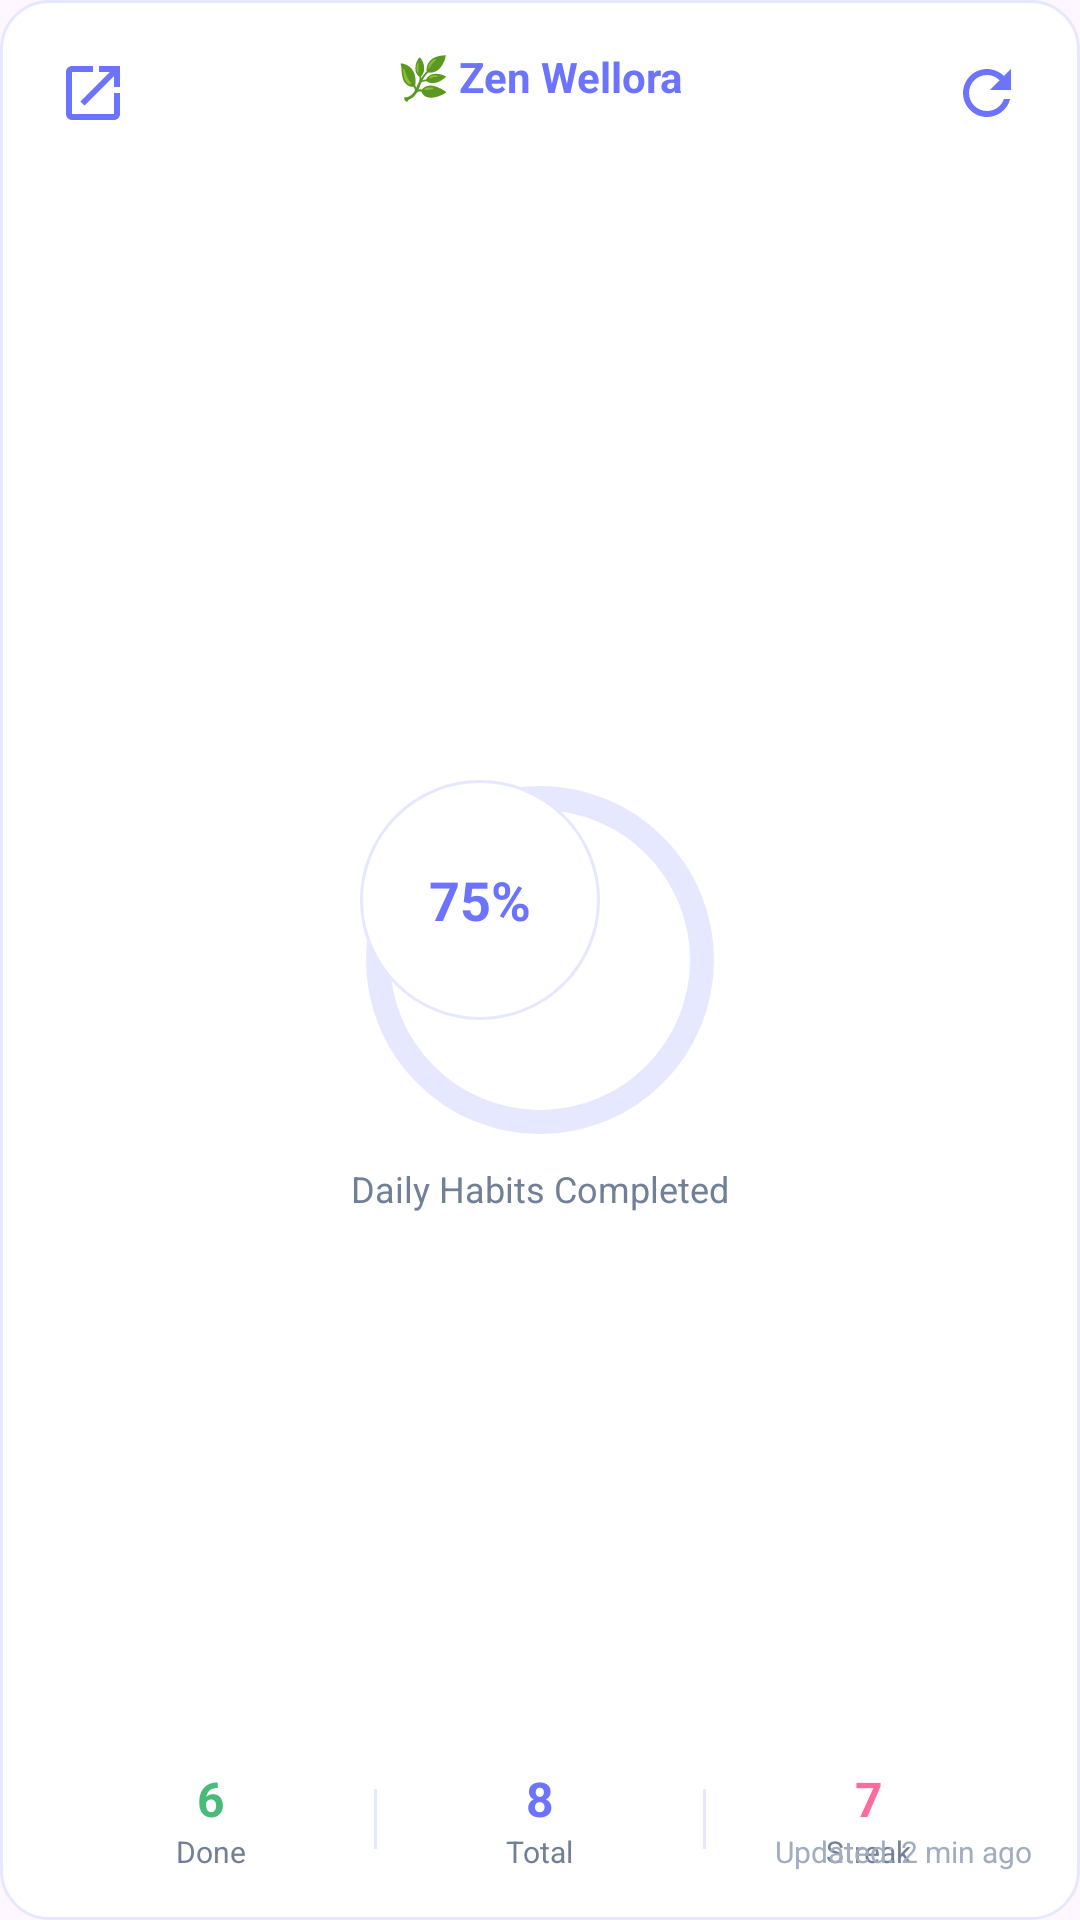

Icon click points for this 1080px×1920px phone screenshot, format (x=x, y=y):
Open App: (x=93, y=93)
Refresh: (x=987, y=93)
